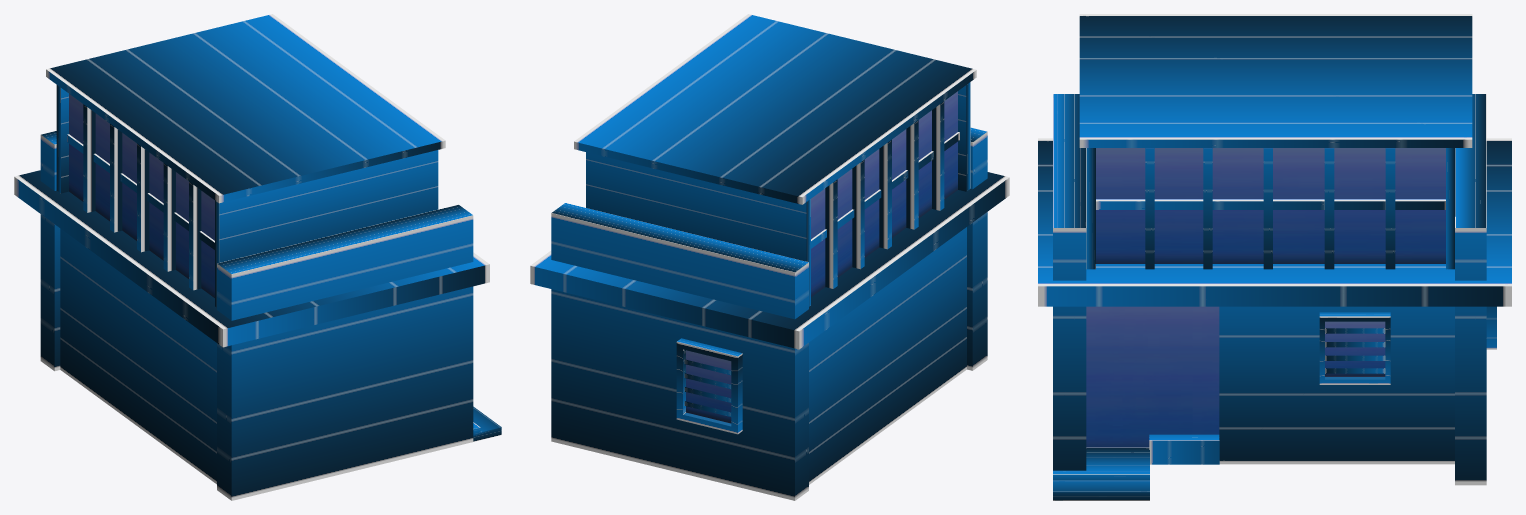
Rendered from khmw.gltf.
3 views of the same model, side by side, from view 1: azimuth 30°, elevation 25°; view 2: azimuth 150°, elevation 25°; view 3: azimuth 270°, elevation 25° (orthographic). The views are drawn at different scales.
Size of the model in its own units: 303 by 301 by 384.
Materials: 2 (2 with a texture image).
